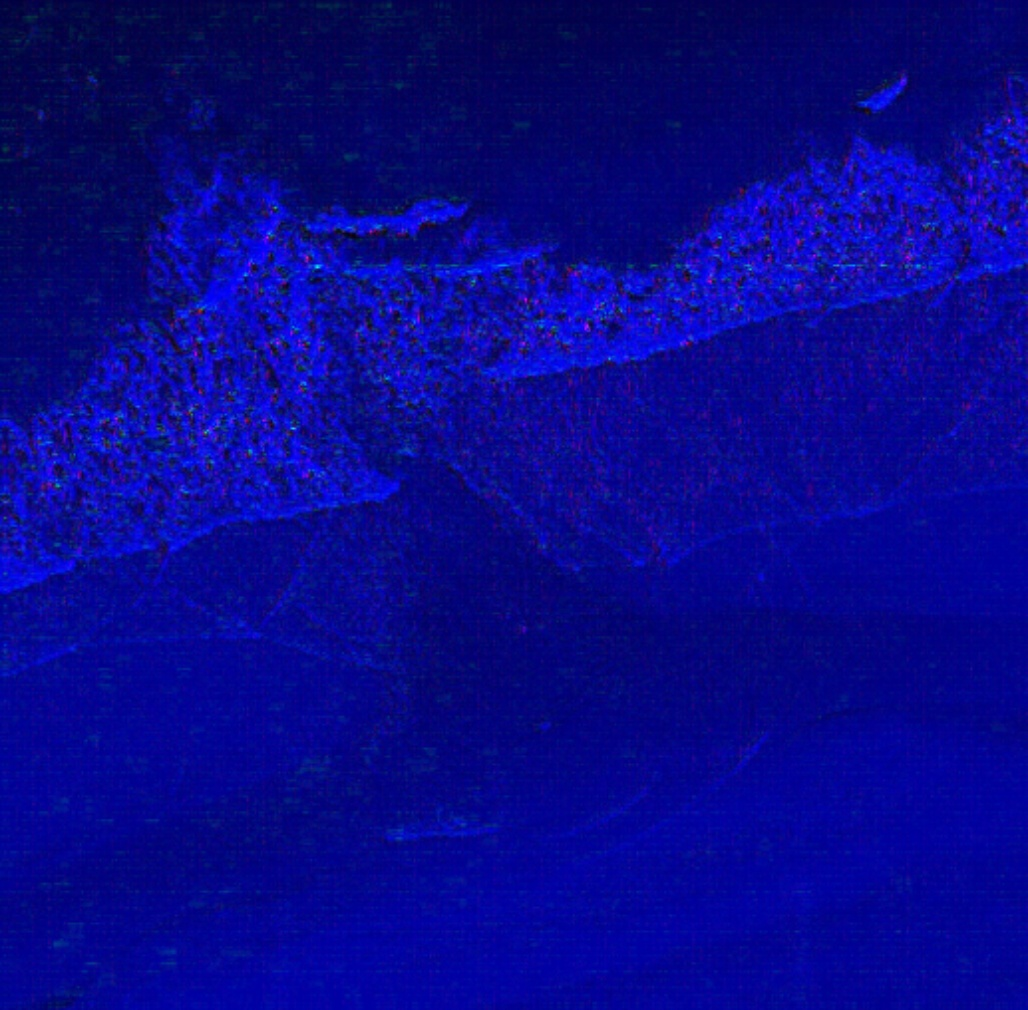rip_current: (157, 124, 533, 674)
